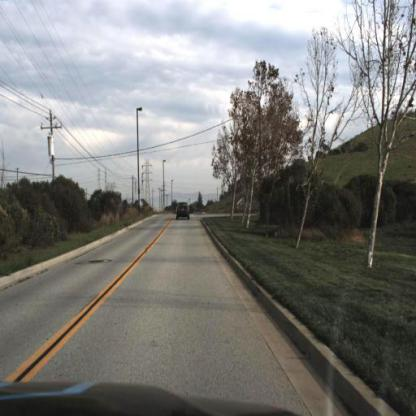car: (175, 197, 190, 224)
